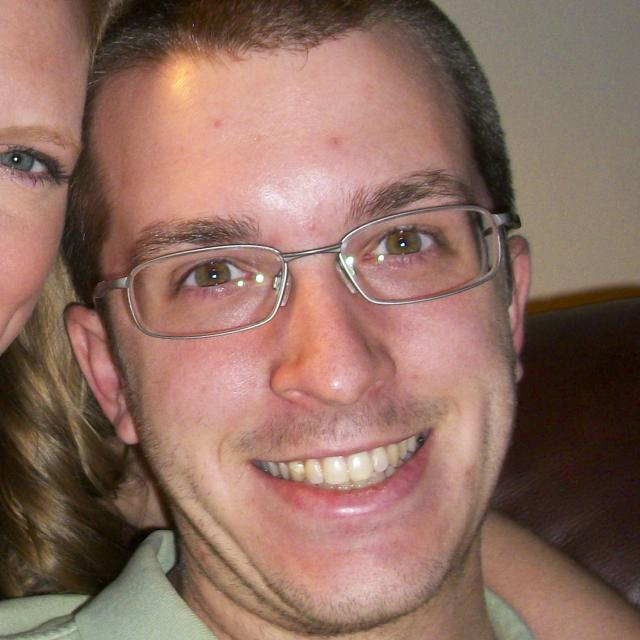Normal: (100, 15, 515, 626)
